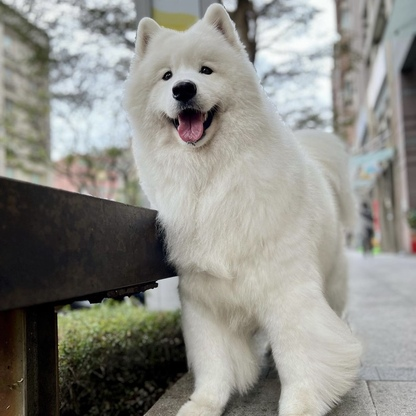samoyed: (118, 2, 369, 416)
